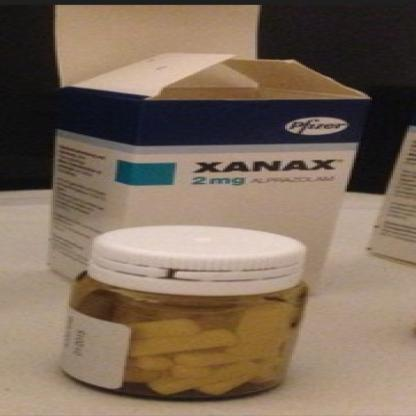jar: (61, 212, 313, 412)
